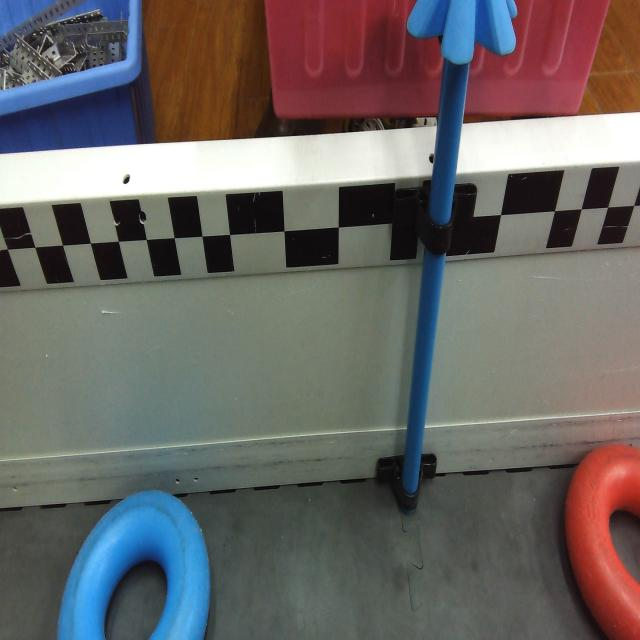Blue-Ring: (57, 489, 211, 640)
Red-Ring: (566, 441, 640, 640)
zblue-Stake-Head: (408, 0, 518, 66)
